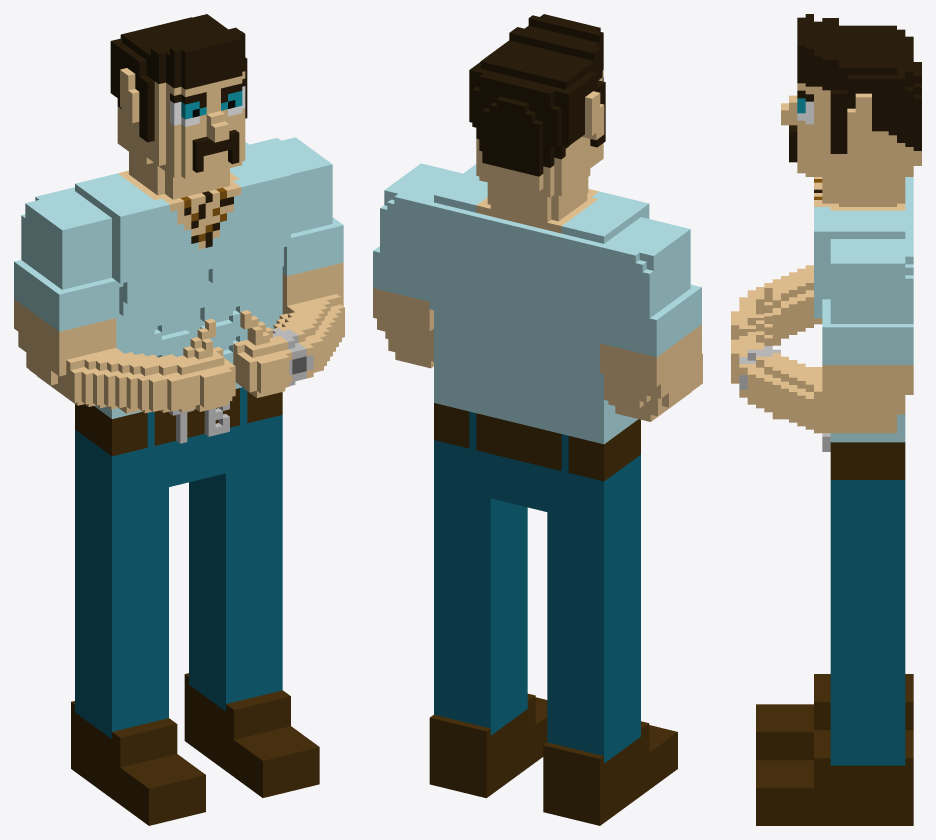
File: tony_belluca.obj
3 renders of one model, left to right at view 1: azimuth 30°, elevation 25°; view 2: azimuth 150°, elevation 25°; view 3: azimuth 270°, elevation 25°, orthographic.
Visible parts, largest first — view 1: tony_belluca; view 2: tony_belluca; view 3: tony_belluca.
Boxes of the visible parts, x1,y1,x2,y2 form: tony_belluca: [14, 14, 344, 825]; tony_belluca: [373, 14, 702, 825]; tony_belluca: [731, 14, 921, 825].
Bounding box in the file's own units: 40 × 100 × 23.
1 material, 1 textured.
